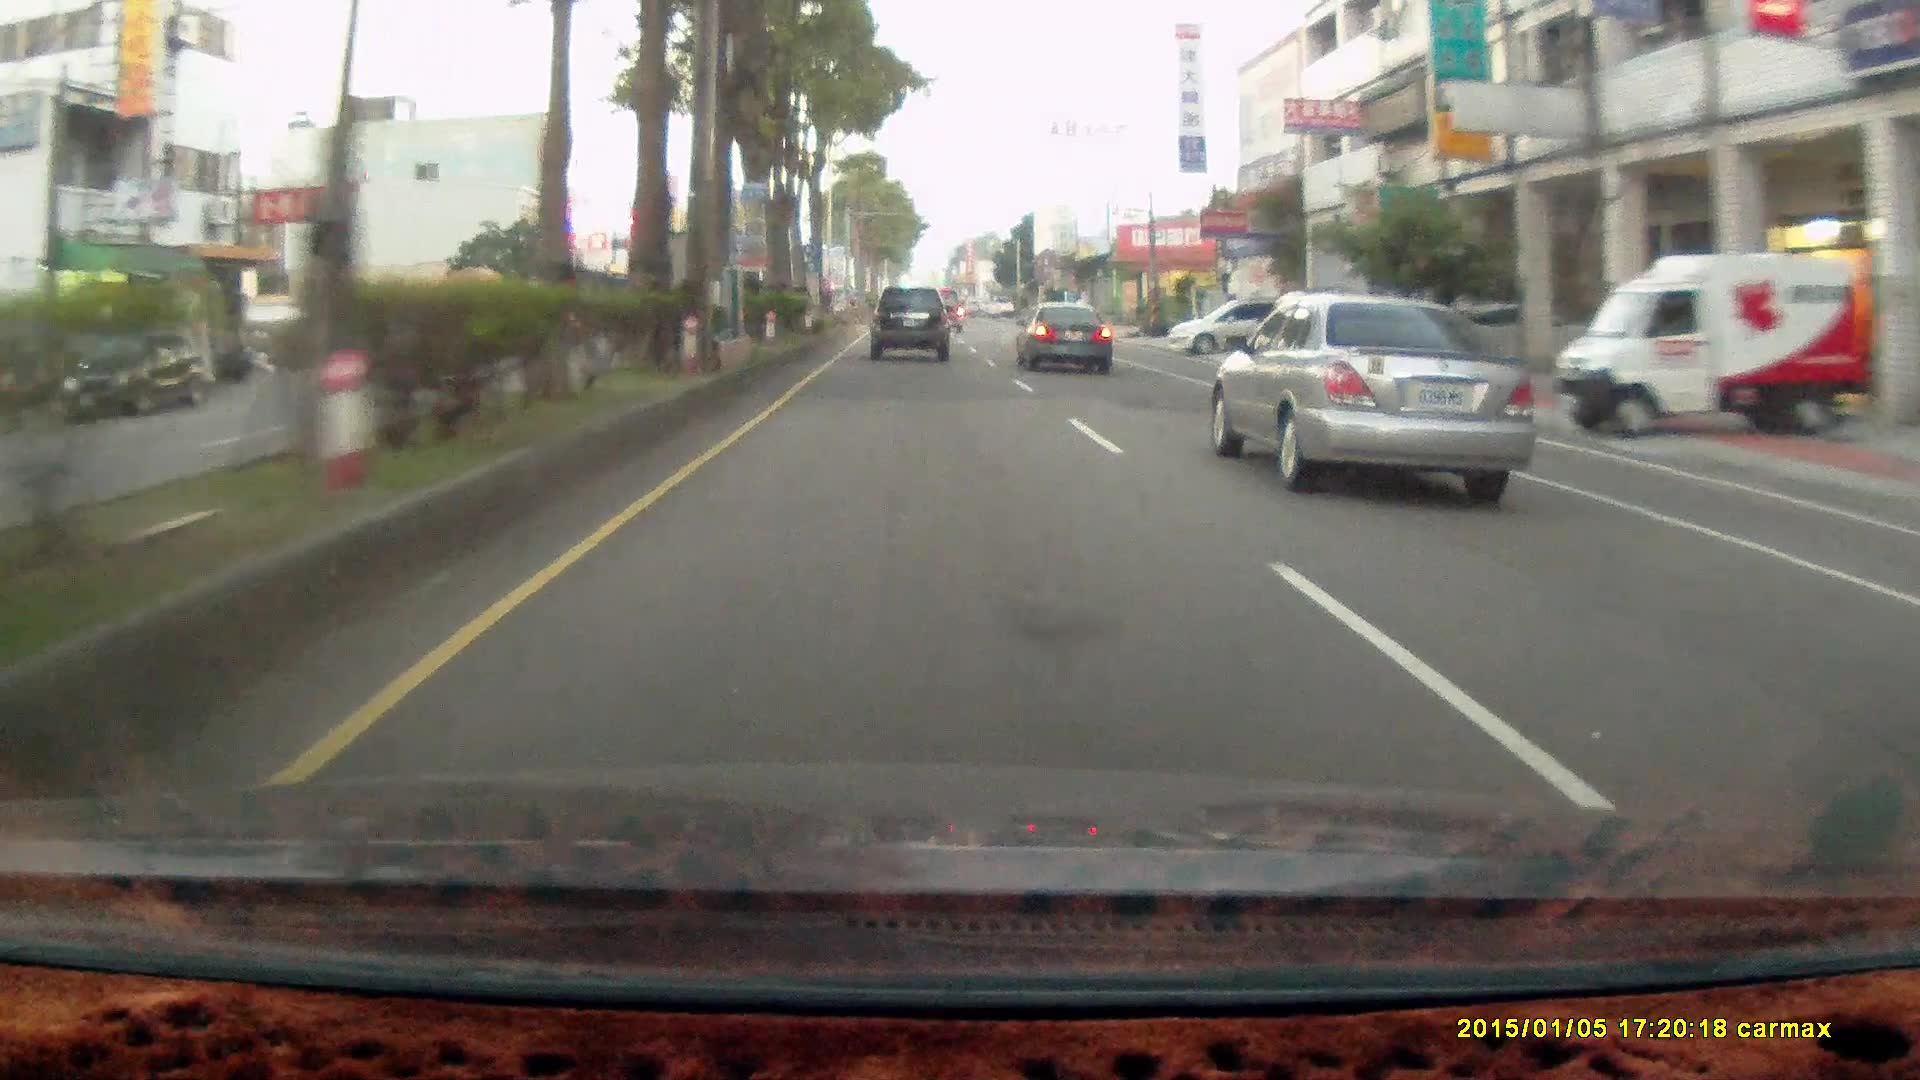vehicle: (1218, 290, 1545, 489), (1557, 251, 1883, 436), (1557, 251, 1873, 436), (51, 327, 214, 425), (59, 326, 204, 423), (1270, 286, 1396, 375), (1166, 301, 1317, 364), (1166, 299, 1316, 360), (1014, 302, 1117, 375), (1014, 301, 1112, 375), (872, 287, 953, 364), (868, 285, 949, 360)
